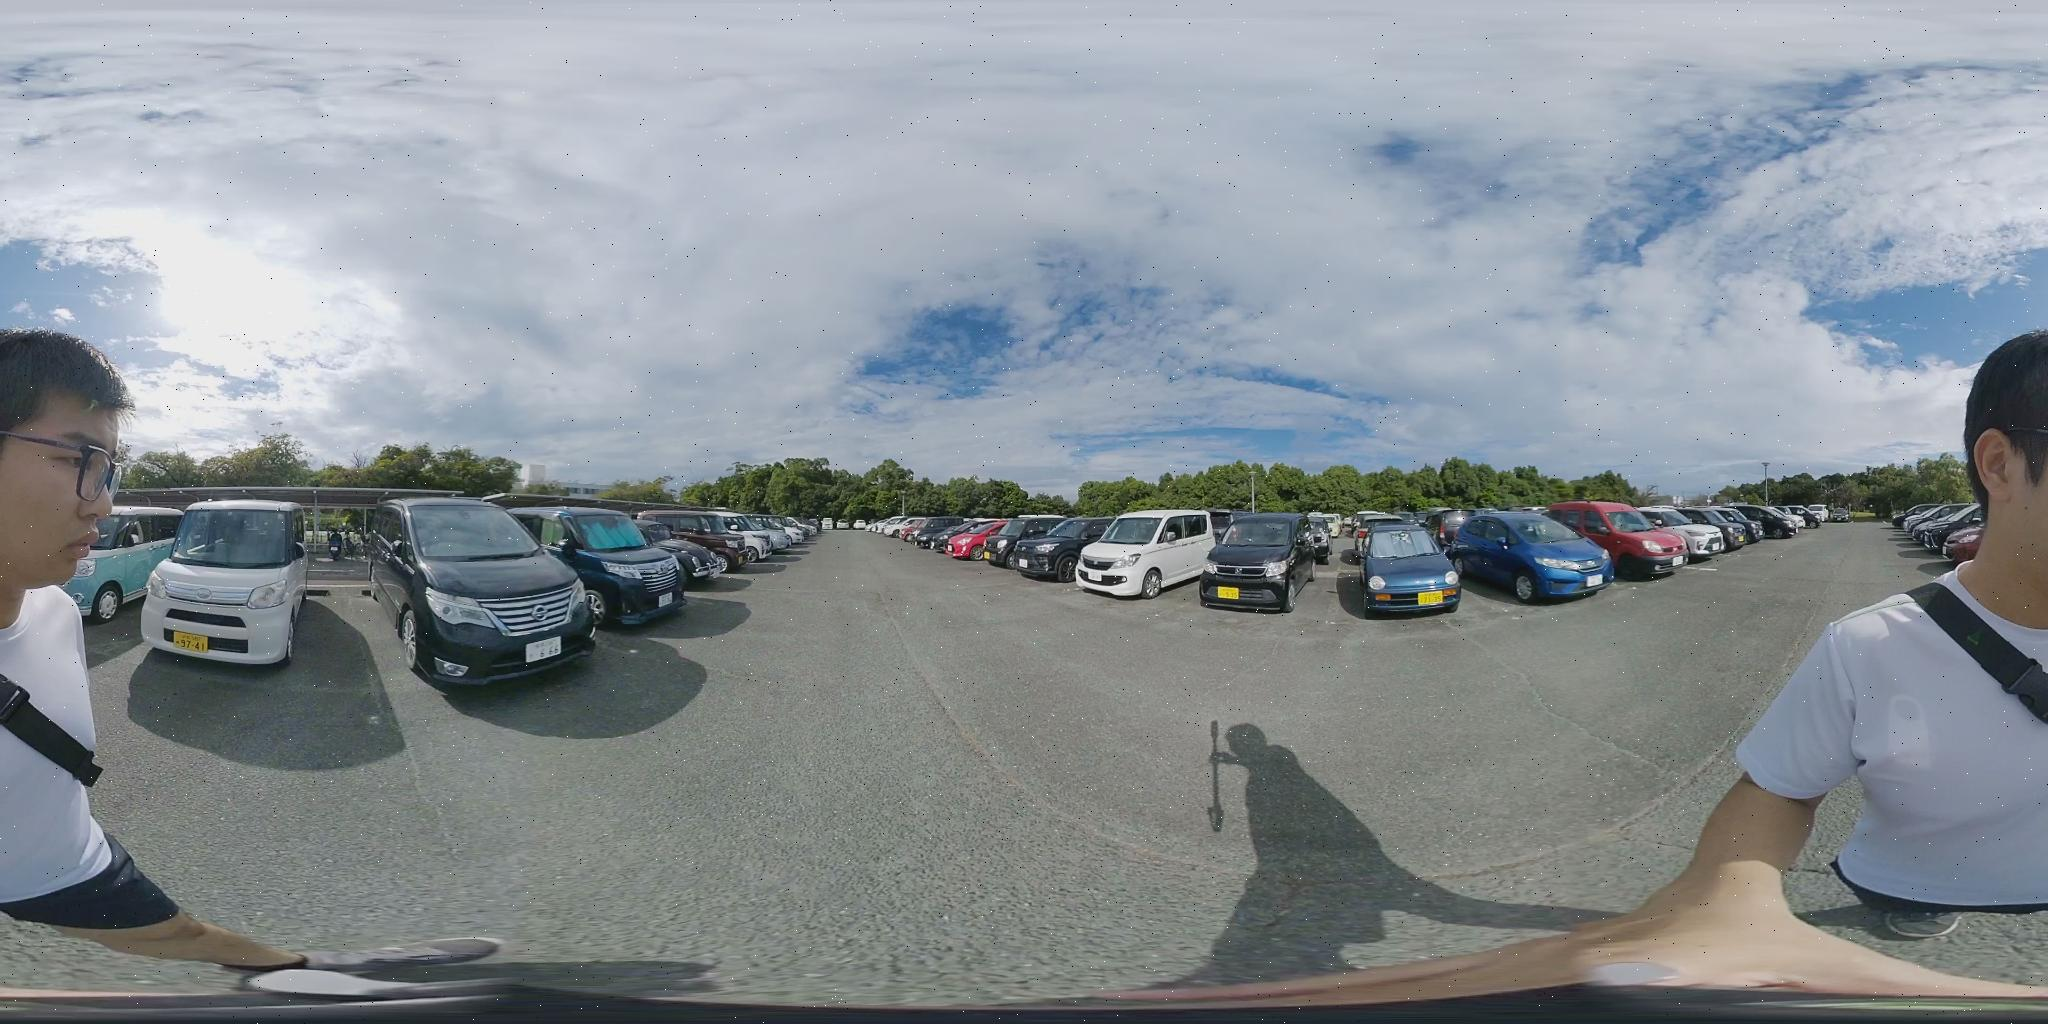car: (377, 495, 601, 684), (140, 505, 315, 667), (500, 503, 696, 623), (1437, 511, 1614, 603), (1075, 509, 1234, 598), (69, 515, 187, 623), (1536, 504, 1690, 580), (1352, 524, 1460, 620), (1202, 517, 1307, 613), (637, 509, 781, 568), (994, 517, 1101, 579), (1646, 507, 1731, 558), (1895, 505, 1979, 555), (1691, 509, 1765, 552), (944, 520, 1014, 560), (1723, 511, 1783, 543), (905, 520, 963, 549)
